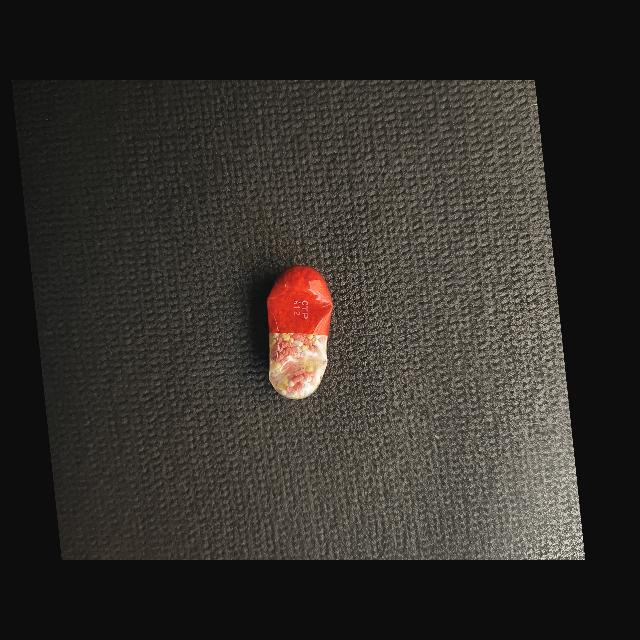Defective Capsule: (267, 265, 333, 400)
